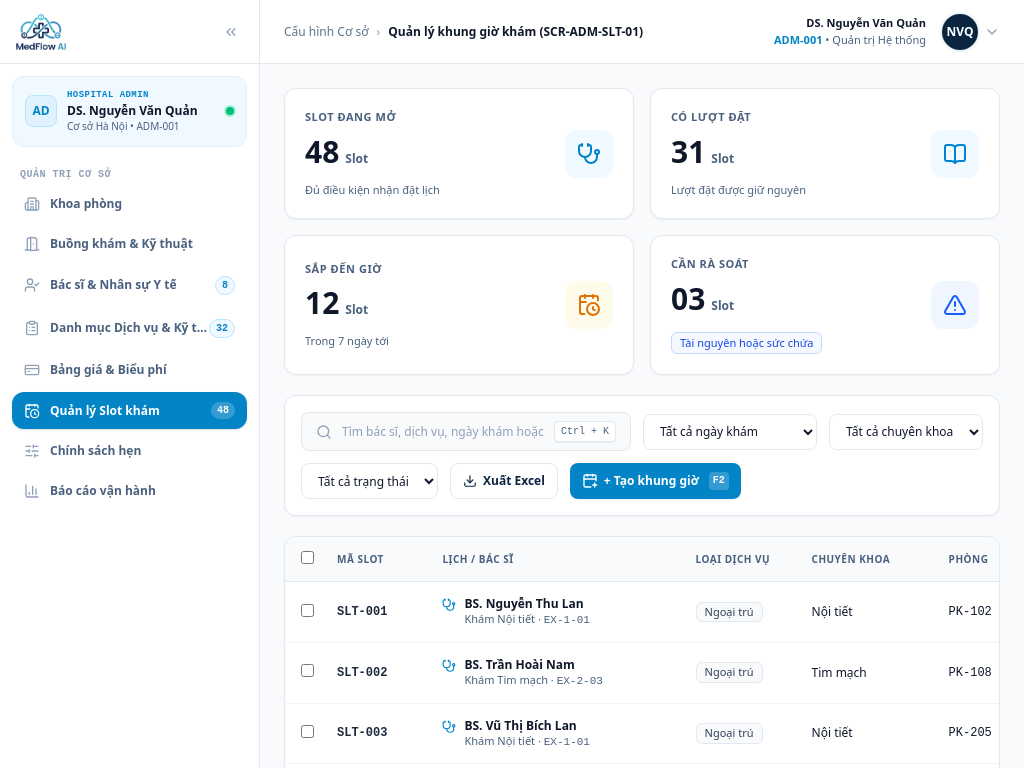
Test: ExaminationSlotListPage (SCR-ADM-SLT-01) › filters slot items by search query
Type "SLT-002" into the field named "Tìm kiếm khung giờ khám". click: (443, 432)
box: [342, 424, 544, 440]
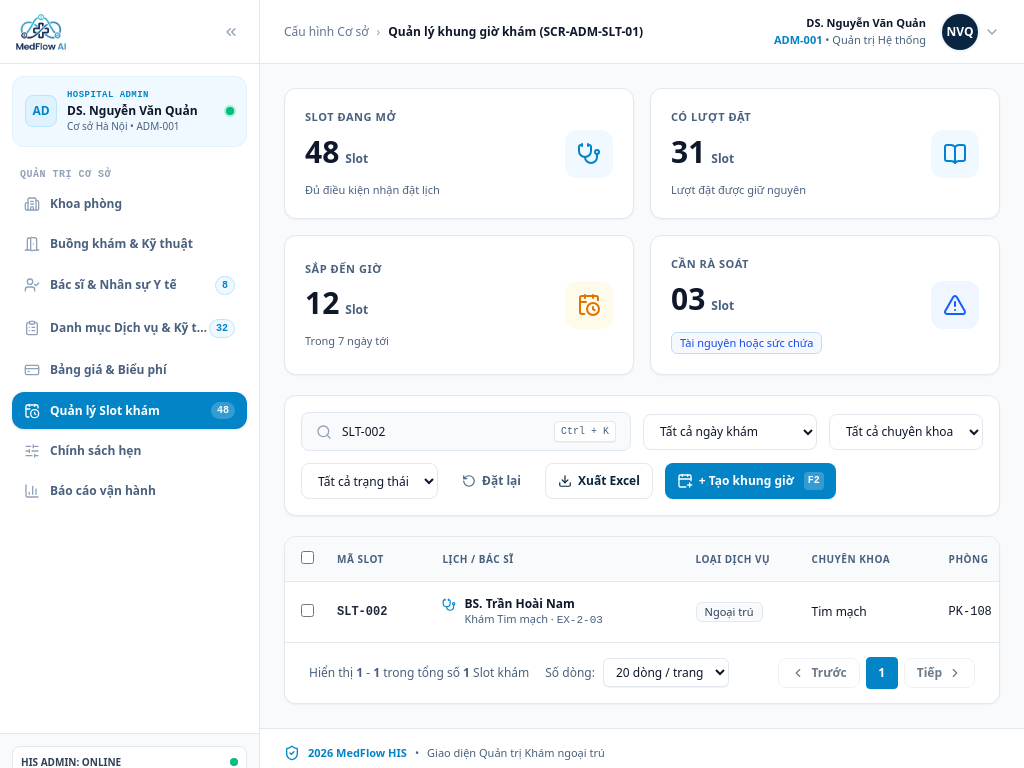
Expected: the text "SLT-002" is shown, [325, 582, 430, 642]
Expected: the text "SLT-001" is gone
